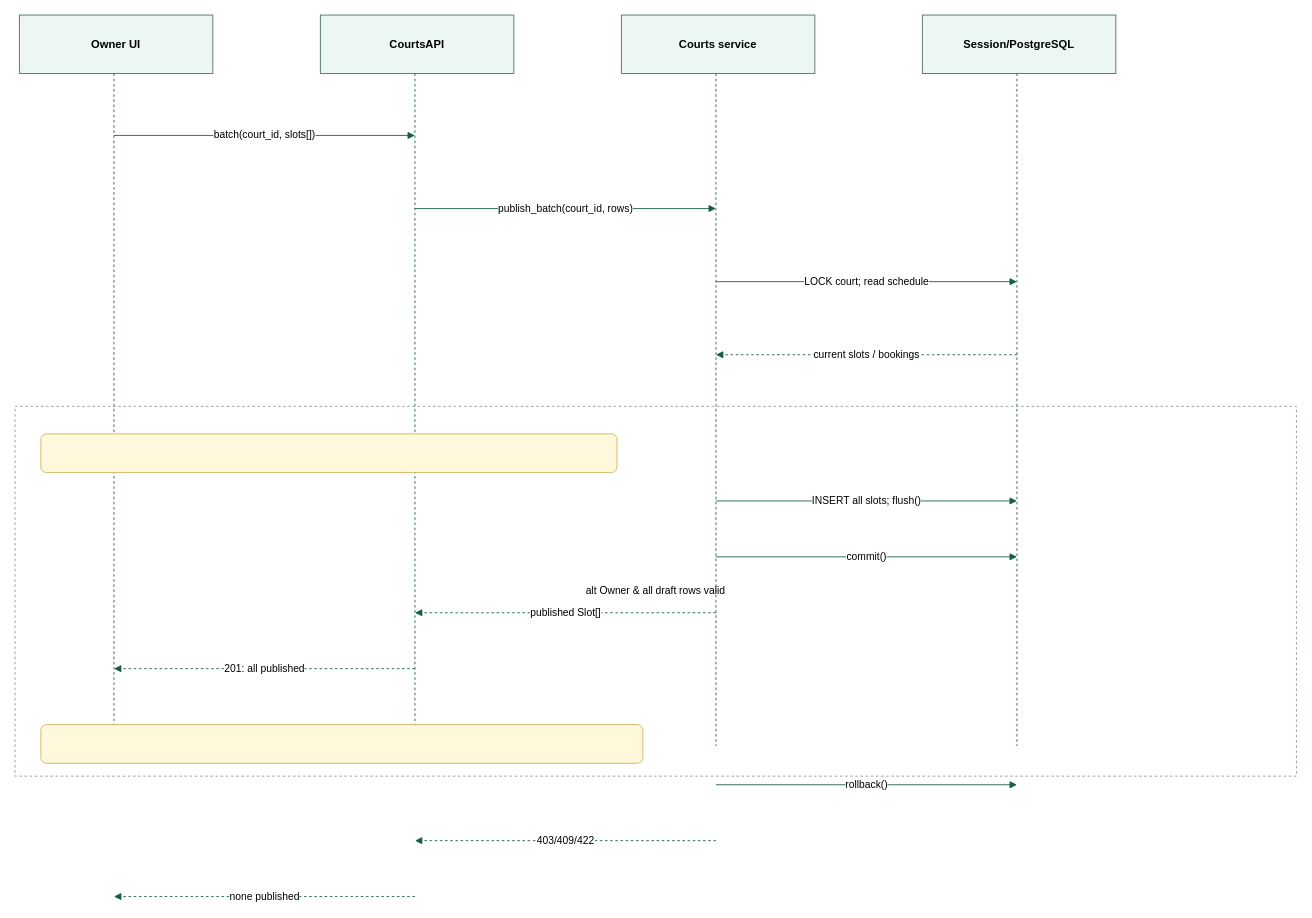
Some shapes in this 1312 by 918 pixel diagram are drawn without their labels. Each missing label, with the centre of its shape:
else Unmet guard / conflict: (341,743)
Success / eligibility satisfied: (328,453)
